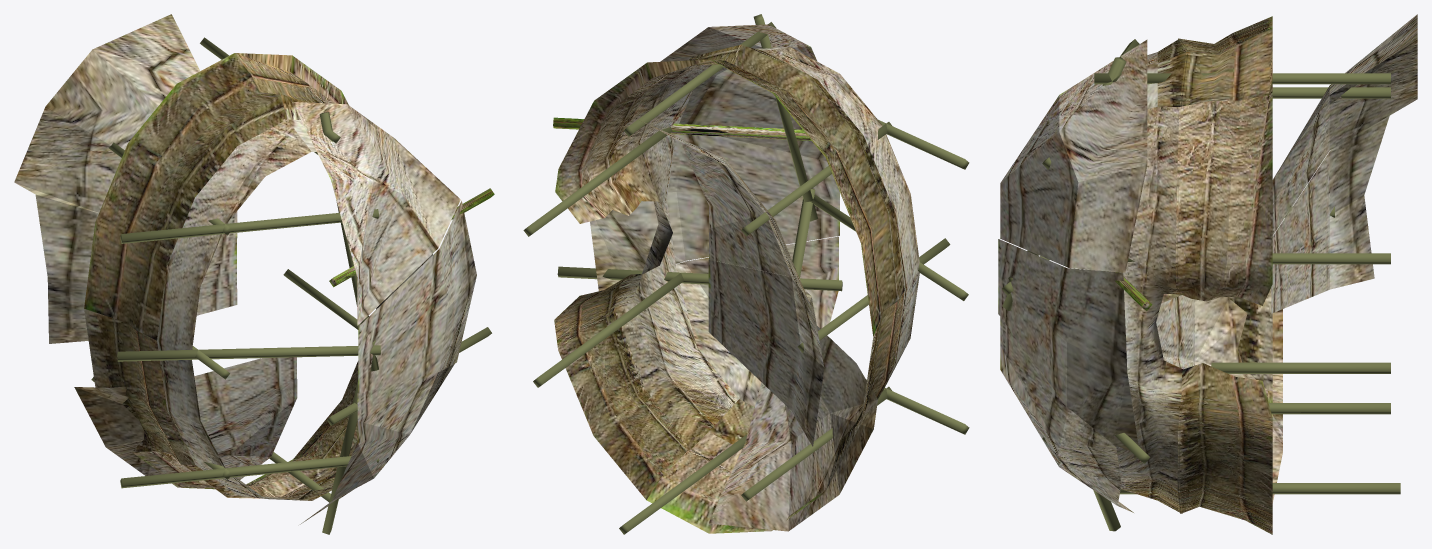
The model's file is hut_000041.obj.
3 renders of one model, left to right at view 1: azimuth 30°, elevation 25°; view 2: azimuth 150°, elevation 25°; view 3: azimuth 270°, elevation 25°, orthographic. The views are drawn at different scales.
Visible parts, largest first — view 1: Sphere.003, Sphere.004, Sphere.006, Sphere.002, Sphere.001, Sphere.005, Sphere.008, Sphere.007, Sphere, Cylinder.008_Cylinder.010, Cylinder.012_Cylinder.013, Cylinder.013_Cylinder.014 (+5 smaller); view 2: Sphere.003, Sphere.001, Sphere.002, Sphere.008, Sphere.005, Sphere.007, Sphere.006, Sphere.004, Sphere, Cylinder.010_Cylinder.011, Cylinder.003, Cylinder.011_Cylinder.012 (+11 smaller); view 3: Sphere.006, Sphere.001, Sphere.003, Sphere.002, Sphere.005, Sphere.007, Sphere.004, Sphere, Sphere.008, Cylinder.006, Cylinder.001, Cylinder (+4 smaller).
Boxes of the visible parts, left/top/right/bottom form: Sphere.003: left=136, top=94, right=432, bottom=500; Sphere.004: left=14, top=14, right=237, bottom=238; Sphere.006: left=292, top=102, right=460, bottom=325; Sphere.002: left=84, top=53, right=376, bottom=489; Sphere.001: left=116, top=77, right=357, bottom=498; Sphere.005: left=358, top=200, right=476, bottom=393; Sphere.008: left=74, top=357, right=297, bottom=479; Sphere.007: left=35, top=194, right=237, bottom=343; Sphere: left=300, top=364, right=454, bottom=524; Cylinder.008_Cylinder.010: left=117, top=345, right=380, bottom=361; Cylinder.012_Cylinder.013: left=120, top=456, right=379, bottom=488; Cylinder.013_Cylinder.014: left=120, top=209, right=379, bottom=243; Sphere.003: left=615, top=47, right=919, bottom=471; Sphere.001: left=583, top=44, right=897, bottom=504; Sphere.002: left=554, top=59, right=881, bottom=533; Sphere.008: left=709, top=326, right=877, bottom=531; Sphere.005: left=590, top=134, right=839, bottom=291; Sphere.007: left=708, top=260, right=824, bottom=446; Sphere.006: left=660, top=24, right=826, bottom=161; Sphere.004: left=640, top=120, right=811, bottom=301; Sphere: left=676, top=236, right=838, bottom=406; Cylinder.010_Cylinder.011: left=553, top=117, right=811, bottom=140; Cylinder.003: left=533, top=273, right=683, bottom=387; Cylinder.011_Cylinder.012: left=557, top=266, right=842, bottom=291; Sphere.006: left=1000, top=39, right=1147, bottom=272; Sphere.001: left=1175, top=33, right=1244, bottom=520; Sphere.003: left=1087, top=39, right=1188, bottom=513; Sphere.002: left=1221, top=16, right=1272, bottom=534; Sphere.005: left=998, top=239, right=1138, bottom=450; Sphere.007: left=1271, top=116, right=1389, bottom=313; Sphere.004: left=1272, top=14, right=1417, bottom=235; Sphere: left=1000, top=317, right=1133, bottom=512; Sphere.008: left=1156, top=295, right=1282, bottom=502; Cylinder.006: left=1211, top=362, right=1390, bottom=373; Cylinder.001: left=1094, top=73, right=1390, bottom=84; Cylinder: left=1120, top=483, right=1400, bottom=494.
Size of the model in its own units: 4.43 by 4.88 by 3.77.
